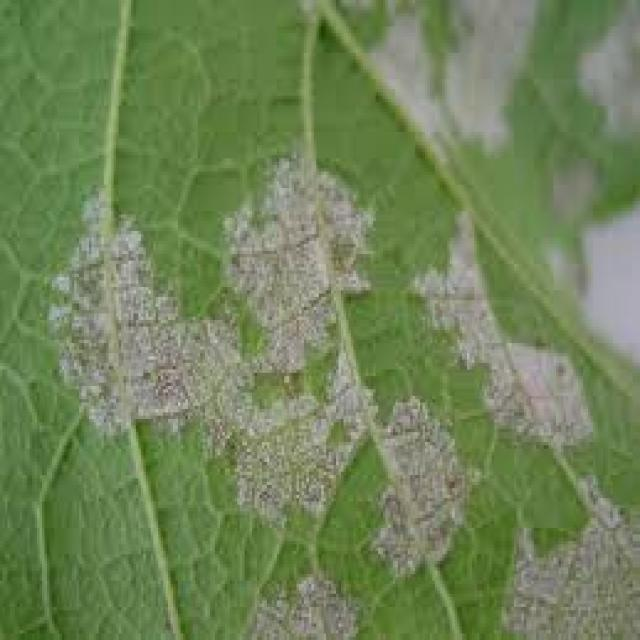powdery-mildew: (64, 178, 640, 637)
